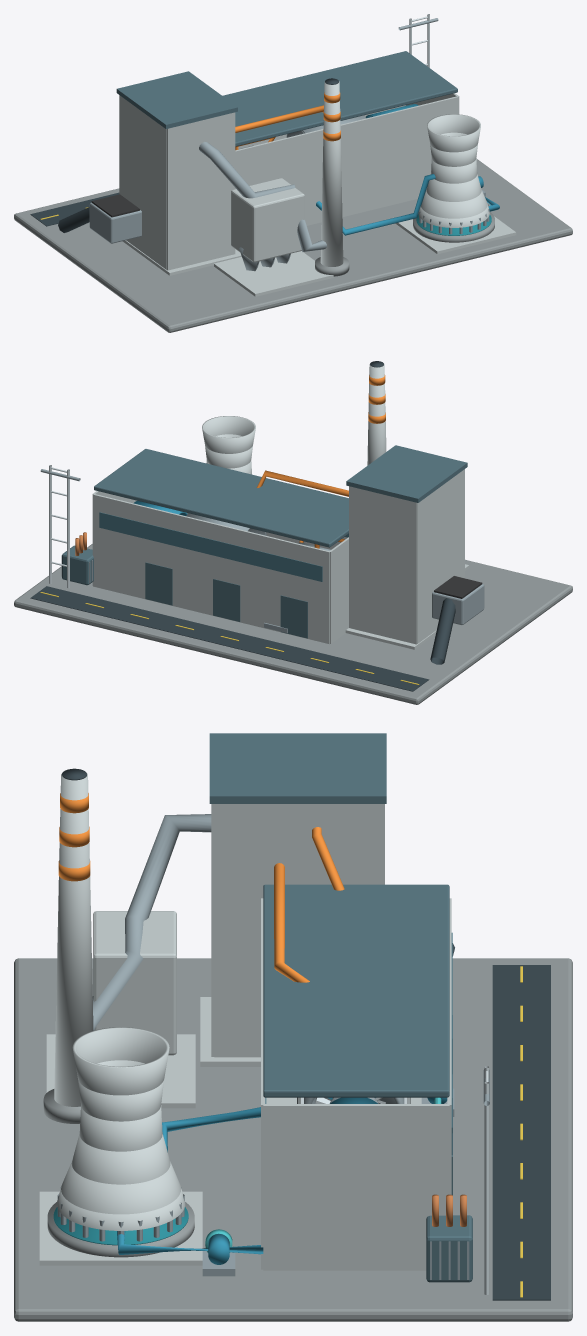
File: thermal-power-blockout.glb
3 renders of one model, top to bottom at view 1: azimuth 30°, elevation 25°; view 2: azimuth 150°, elevation 25°; view 3: azimuth 270°, elevation 25°, orthographic. The views are drawn at different scales.
Visible parts, largest first — view 1: site__concrete, boiler_shell__wall, hall_shell__wall, hall_shell__roof, cooling_tower__wall, flue_filter__wall, site__wall, boiler_shell__roof, stack__wall, flue_duct__steel, coal_supply__steel, cooling_pipes__blue (+8 smaller); view 2: site__concrete, hall_shell__wall, hall_shell__roof, boiler_shell__wall, site__dark, boiler_shell__roof, hall_shell__glass, cooling_tower__wall, stack__wall, coal_supply__steel, coal_supply__dark, transformer__roof (+4 smaller); view 3: site__concrete, hall_shell__roof, hall_shell__wall, boiler_shell__wall, site__dark, cooling_tower__wall, boiler_shell__roof, stack__wall, flue_filter__wall, site__wall, flue_duct__steel, transformer__roof (+8 smaller).
Part boxes in pixels (x1,y1,x2,y2): site__concrete: [14, 159, 572, 332]; boiler_shell__wall: [119, 95, 235, 270]; hall_shell__wall: [235, 93, 459, 225]; hall_shell__roof: [222, 51, 457, 146]; cooling_tower__wall: [418, 114, 489, 227]; flue_filter__wall: [231, 178, 304, 262]; site__wall: [122, 216, 516, 296]; boiler_shell__roof: [116, 71, 237, 128]; stack__wall: [320, 81, 343, 266]; flue_duct__steel: [199, 142, 326, 251]; coal_supply__steel: [89, 202, 141, 243]; cooling_pipes__blue: [316, 174, 499, 235]; site__concrete: [14, 544, 572, 704]; hall_shell__wall: [92, 491, 348, 643]; hall_shell__roof: [94, 449, 348, 638]; boiler_shell__wall: [349, 469, 464, 644]; site__dark: [30, 586, 429, 691]; boiler_shell__roof: [346, 445, 467, 502]; hall_shell__glass: [99, 512, 348, 581]; cooling_tower__wall: [202, 416, 255, 474]; stack__wall: [367, 363, 386, 465]; coal_supply__steel: [432, 584, 484, 624]; coal_supply__dark: [430, 598, 455, 664]; transformer__roof: [62, 545, 93, 585]; site__concrete: [14, 958, 572, 1321]; hall_shell__roof: [263, 884, 452, 1195]; hall_shell__wall: [261, 898, 451, 1270]; boiler_shell__wall: [211, 804, 384, 1057]; site__dark: [492, 965, 550, 1300]; cooling_tower__wall: [57, 1027, 185, 1230]; boiler_shell__roof: [209, 733, 386, 803]; stack__wall: [54, 773, 93, 1106]; flue_filter__wall: [93, 911, 176, 1055]; site__wall: [39, 997, 421, 1265]; flue_duct__steel: [92, 814, 211, 1030]; transformer__roof: [426, 1215, 472, 1282].
Bounding box in the file's own units: 18 × 8.35 × 12.
